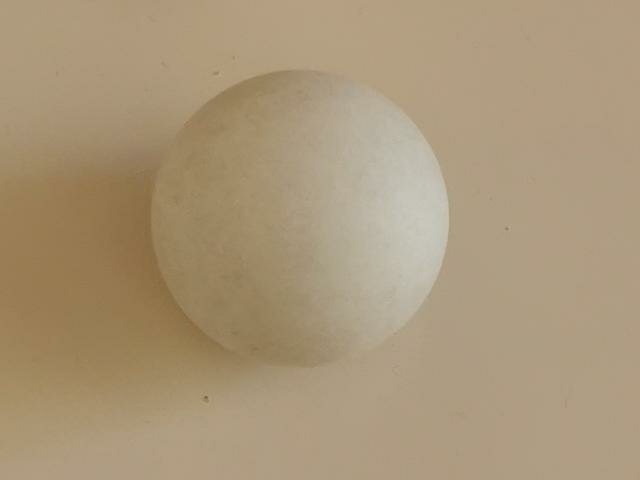ball: (155, 70, 452, 366)
